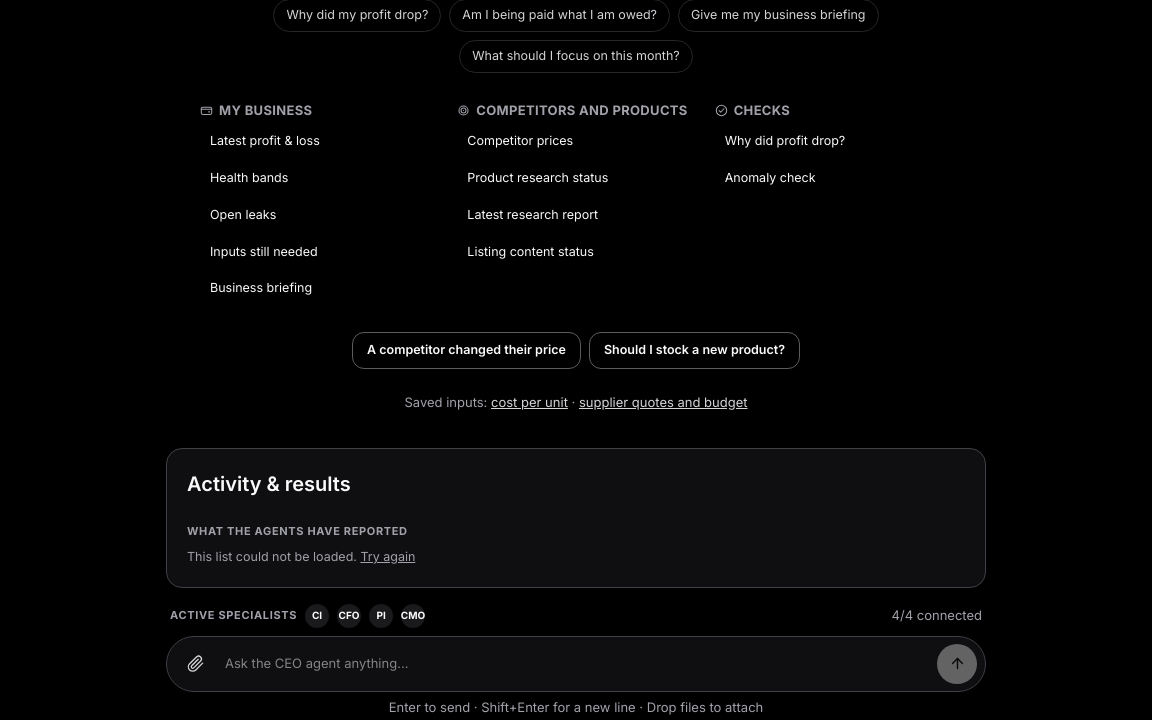
Test: what the agents have reported › says so, and offers a retry, when the list cannot be loaded; it does not claim there is nothing
This screenshot has width=1152, height=720.
(page scrolled)
Expected: the message "This list could not be loaded. Try again" is shown, [187, 548, 415, 567]
Click the button "Try again" at coordinates (388, 557), box [360, 548, 415, 567]
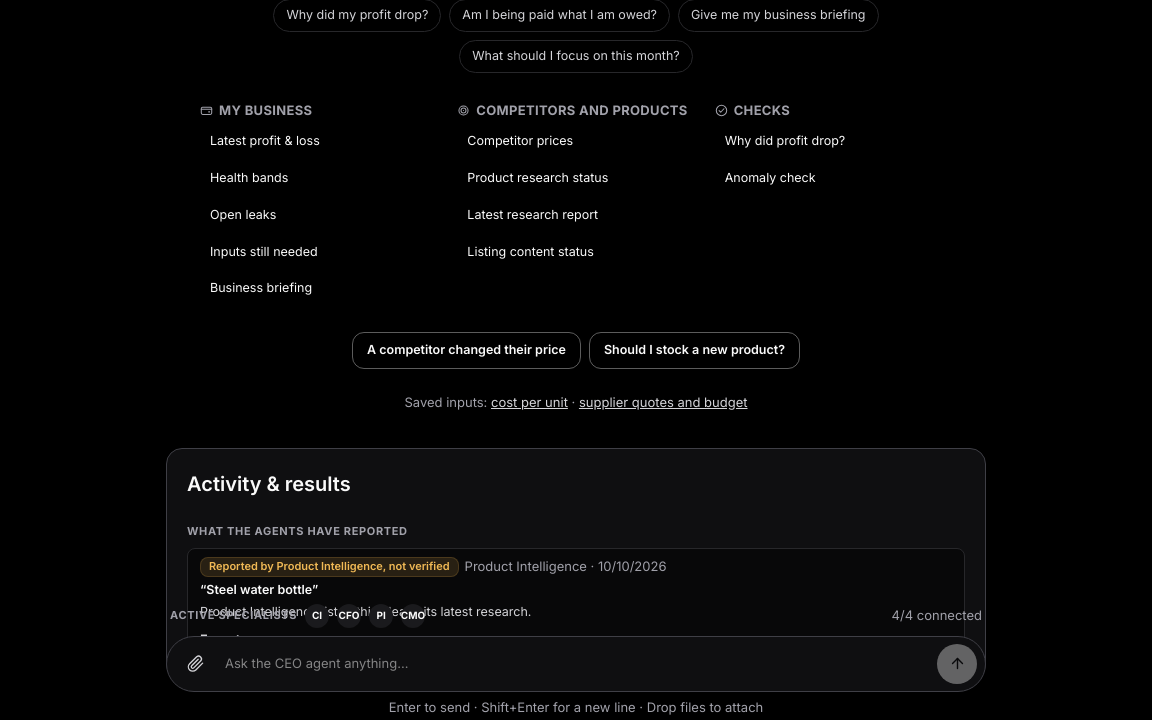
Now the list item with test id "shared-finding-f1" is shown, box [187, 548, 965, 659]
